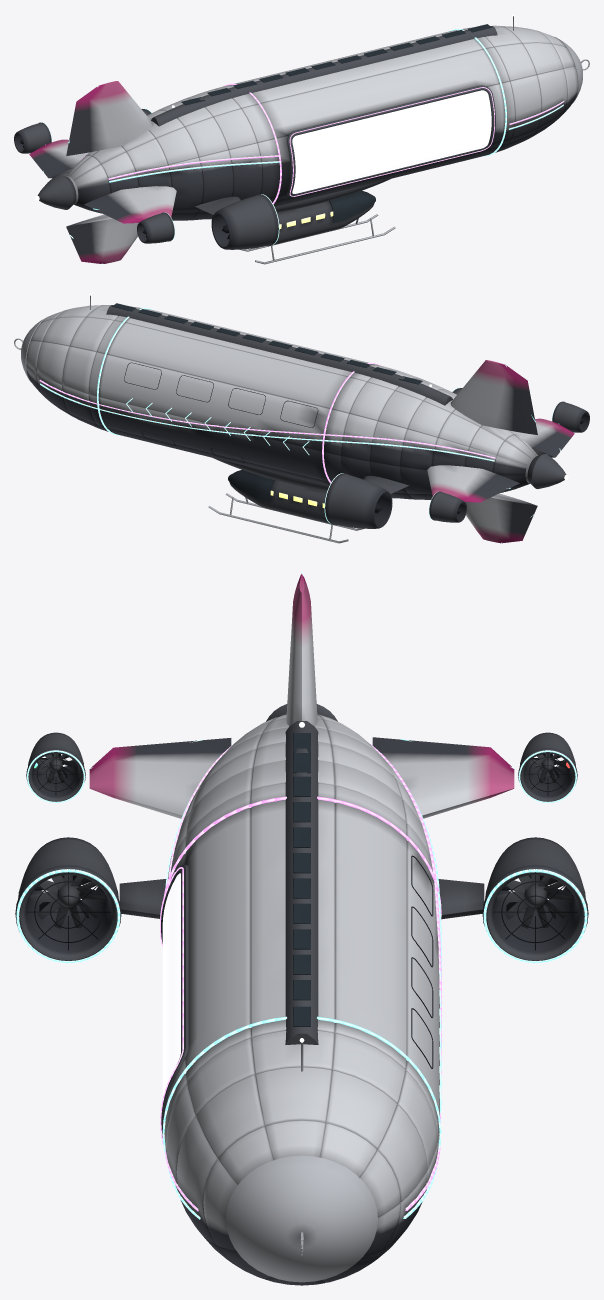
Rendered from airship323.glb.
3 views of the same model, one above another, from view 1: azimuth 30°, elevation 25°; view 2: azimuth 150°, elevation 25°; view 3: azimuth 270°, elevation 25° (orthographic). The views are drawn at different scales.
Parts seen in each view (by area): view 1: ab323-hull, ab323-screen, ab323-comp, ab323-nacS-comp, ab323-glass, ab323-ledp, ab323-steel, ab323-ledc; view 2: ab323-hull, ab323-comp, ab323-nacP-comp, ab323-glass, ab323-ledc, ab323-ledp, ab323-steel, ab323-dark; view 3: ab323-hull, ab323-comp, ab323-steel, ab323-nacP-comp, ab323-nacS-comp, ab323-glass, ab323-screen, ab323-ledp, ab323-ledc, ab323-rotorP, ab323-rotorS, ab323-dark (+4 smaller).
Boxes of the visible parts, x1,y1,x2,y2 form: ab323-hull: (29,25,577,263); ab323-screen: (292,90,491,193); ab323-comp: (14,26,497,244); ab323-nacS-comp: (211,194,278,249); ab323-glass: (181,24,491,222); ab323-ledp: (81,83,564,204); ab323-steel: (66,16,589,264); ab323-ledc: (41,29,563,264); ab323-hull: (26,305,574,543); ab323-comp: (106,305,589,524); ab323-nacP-comp: (325,473,392,528); ab323-glass: (112,303,422,501); ab323-ledc: (40,308,561,543); ab323-ledp: (39,363,521,483); ab323-steel: (14,295,537,543); ab323-dark: (124,362,583,513); ab323-hull: (89,574,514,1285); ab323-comp: (26,704,577,1137); ab323-steel: (226,1042,377,1282); ab323-nacP-comp: (482,837,588,960); ab323-nacS-comp: (15,837,121,960); ab323-glass: (293,733,310,1026); ab323-screen: (162,873,180,1098); ab323-ledp: (160,743,441,1211); ab323-ledc: (27,572,576,1219); ab323-rotorP: (497,875,573,928); ab323-rotorS: (30,875,106,928); ab323-dark: (32,754,571,1068).
Size of the model in its own units: 36.17 by 13.15 by 16.2.
